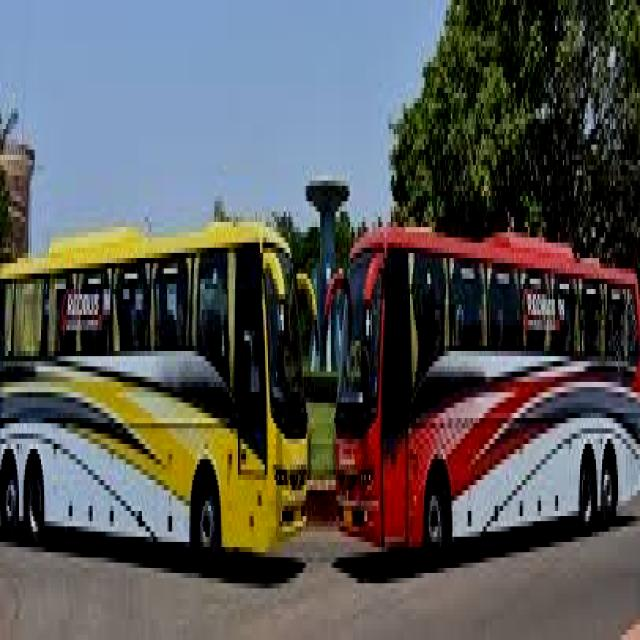bus: (21, 180, 323, 607), (326, 185, 640, 574)
